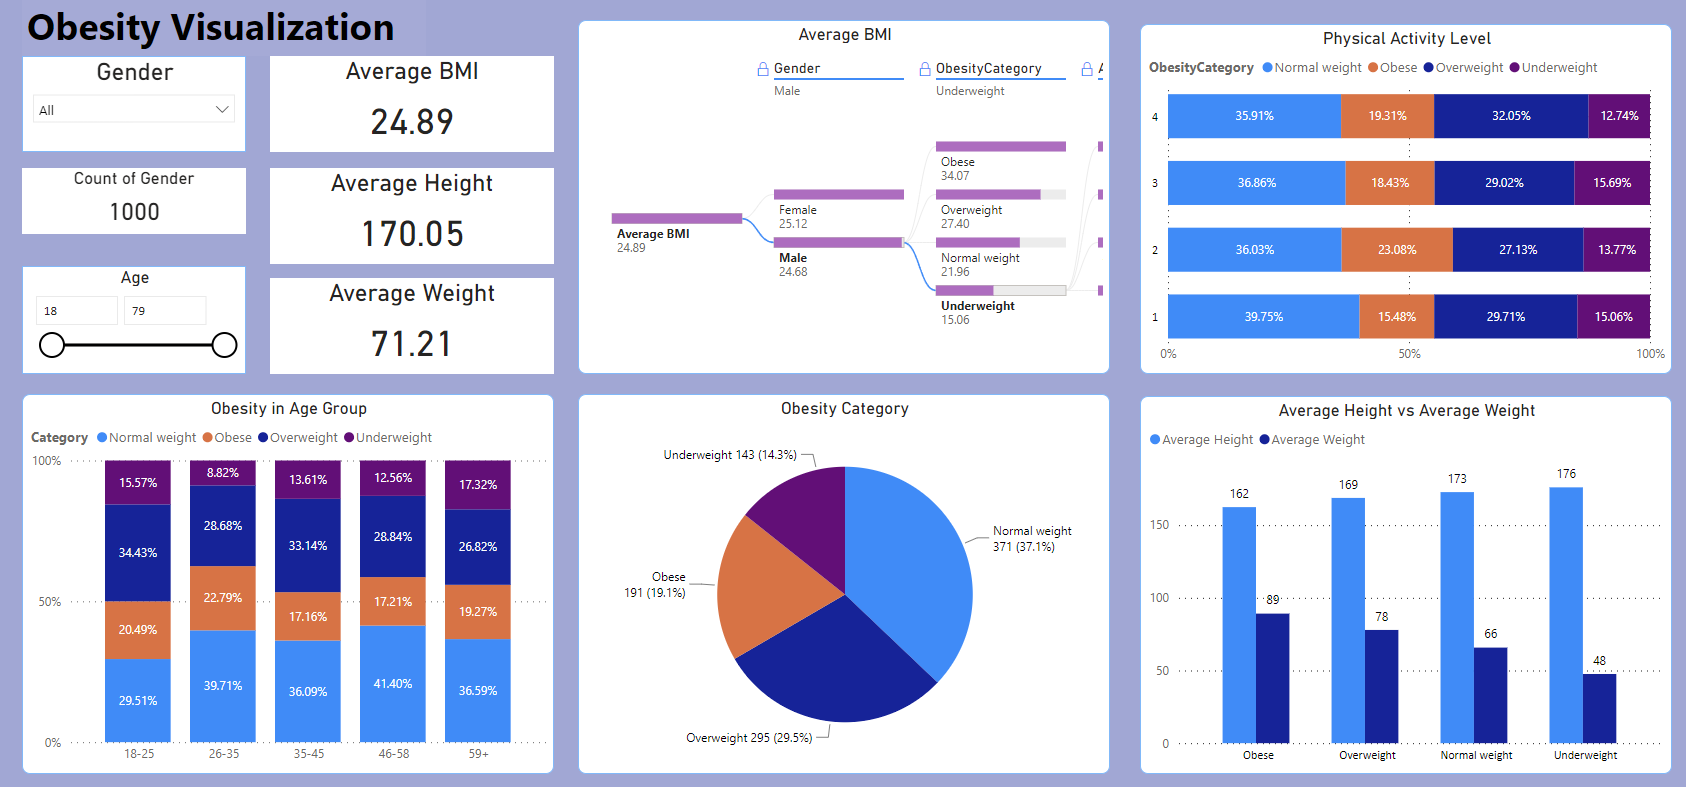

The dashboard page shown, as its layout file describes it:
{"tool":"powerbi","page":{"name":"Obesity Visualization","canvas":[1700,800],"ordinal":0},"visuals":[{"type":"pieChart","title":"Obesity Category","fields":{"Category":["obesity_data.ObesityCategory"],"Y":["CountNonNull(obesity_data.ObesityCategory)"]},"box":[584,400,532,380],"z":0},{"type":"slicer","title":"Age","fields":{"Values":["obesity_data.Age"]},"box":[28,272,224,108],"z":1000},{"type":"card","title":"Count of Gender","fields":{"Values":["CountNonNull(obesity_data.Gender)"]},"box":[28,174,224,66],"z":2000},{"type":"slicer","title":"Gender","fields":{"Values":["obesity_data.Gender"]},"box":[28,62,224,96],"z":3000},{"type":"clusteredColumnChart","title":"Average Height  vs Average Weight","fields":{"Category":["obesity_data.ObesityCategory"],"Y":["Avg(obesity_data.Height)","Avg(obesity_data.Weight)"]},"box":[1146,402,532,378],"z":4000},{"type":"textbox","title":"Obesity Dashboard","box":[28,0,404,62],"z":5000},{"type":"hundredPercentStackedBarChart","title":"Physical Activity Level","fields":{"Category":["obesity_data.PhysicalActivityLevel"],"Y":["CountNonNull(obesity_data.ObesityCategory)"],"Series":["obesity_data.ObesityCategory"]},"box":[1146,30,532,350],"z":6000},{"type":"hundredPercentStackedColumnChart","title":"Obesity in Age Group","fields":{"Category":["obesity_data.Age (groups) 2"],"Y":["CountNonNull(obesity_data.Gender)"],"Series":["obesity_data.ObesityCategory"]},"box":[28,400,532,380],"z":7000},{"type":"decompositionTreeVisual","title":"Average BMI ","fields":{"ExplainBy":["obesity_data.Gender","obesity_data.ObesityCategory","obesity_data.Age in Groups"],"Analyze":["Avg(obesity_data.BMI)"]},"box":[584,26,532,354],"z":8000},{"type":"card","title":"Average BMI","fields":{"Values":["Avg(obesity_data.BMI)"]},"box":[276,62,284,96],"z":9000},{"type":"card","title":"Average Height","fields":{"Values":["Avg(obesity_data.Height)"]},"box":[276,174,284,96],"z":10000},{"type":"card","title":"Average Weight","fields":{"Values":["Avg(obesity_data.Weight)"]},"box":[276,284,284,96],"z":11000}]}

Visuals, with their boxes in screenshot pixels (x1, y1, x2, y2), scaled from the page's 1700x800 canvas onto the 1686x787 screenshot:
"Obesity Category" pieChart: 579,394,1107,767
"Age" slicer: 28,268,250,374
"Count of Gender" card: 28,171,250,236
"Gender" slicer: 28,61,250,155
"Average Height  vs Average Weight" clusteredColumnChart: 1137,395,1664,767
"Obesity Dashboard" textbox: 28,0,428,61
"Physical Activity Level" hundredPercentStackedBarChart: 1137,30,1664,374
"Obesity in Age Group" hundredPercentStackedColumnChart: 28,394,555,767
"Average BMI " decompositionTreeVisual: 579,26,1107,374
"Average BMI" card: 274,61,555,155
"Average Height" card: 274,171,555,266
"Average Weight" card: 274,279,555,374
